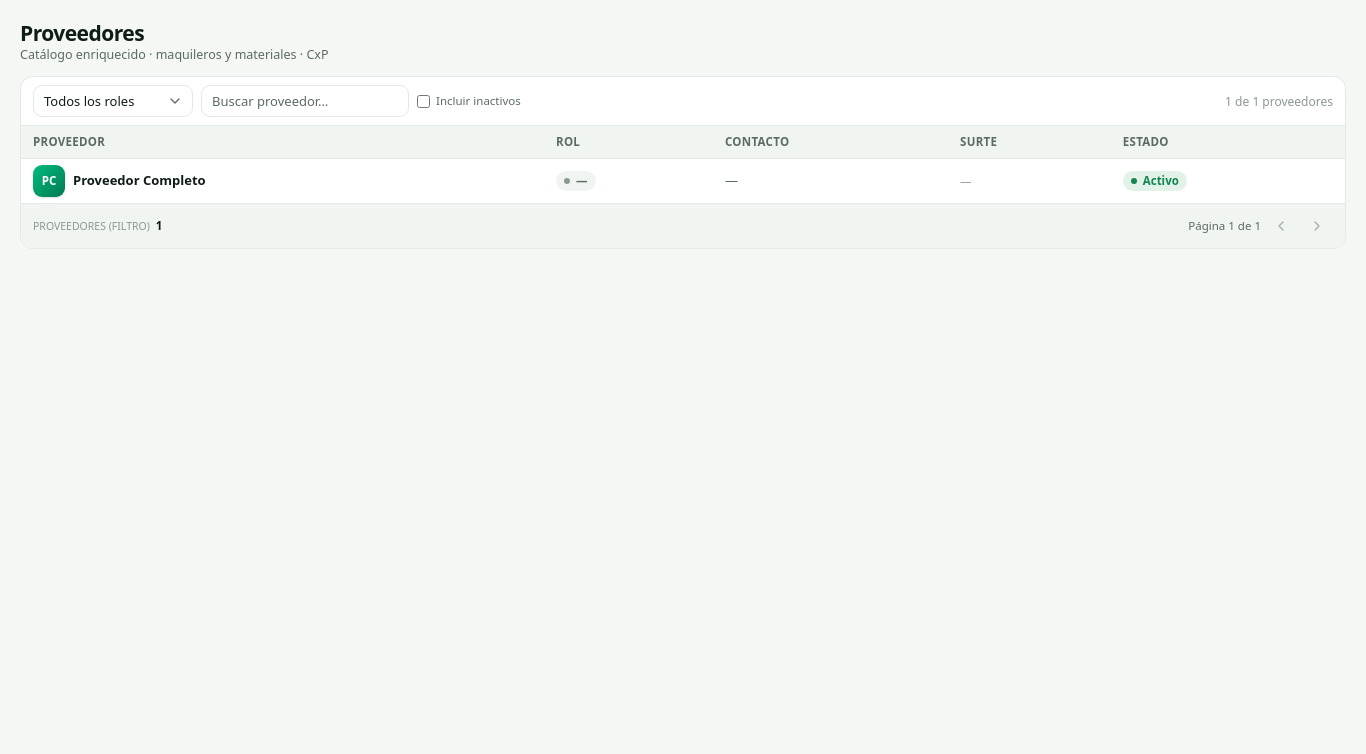
Test: <ProveedoresPagina> › muestra los datos enriquecidos (fiscal/pago/operativo) y el conteo de adjuntos
The image size is (1366, 754).
Click the row with test id "fila-proveedor".
click(49, 181)  # box [21, 158, 1345, 203]
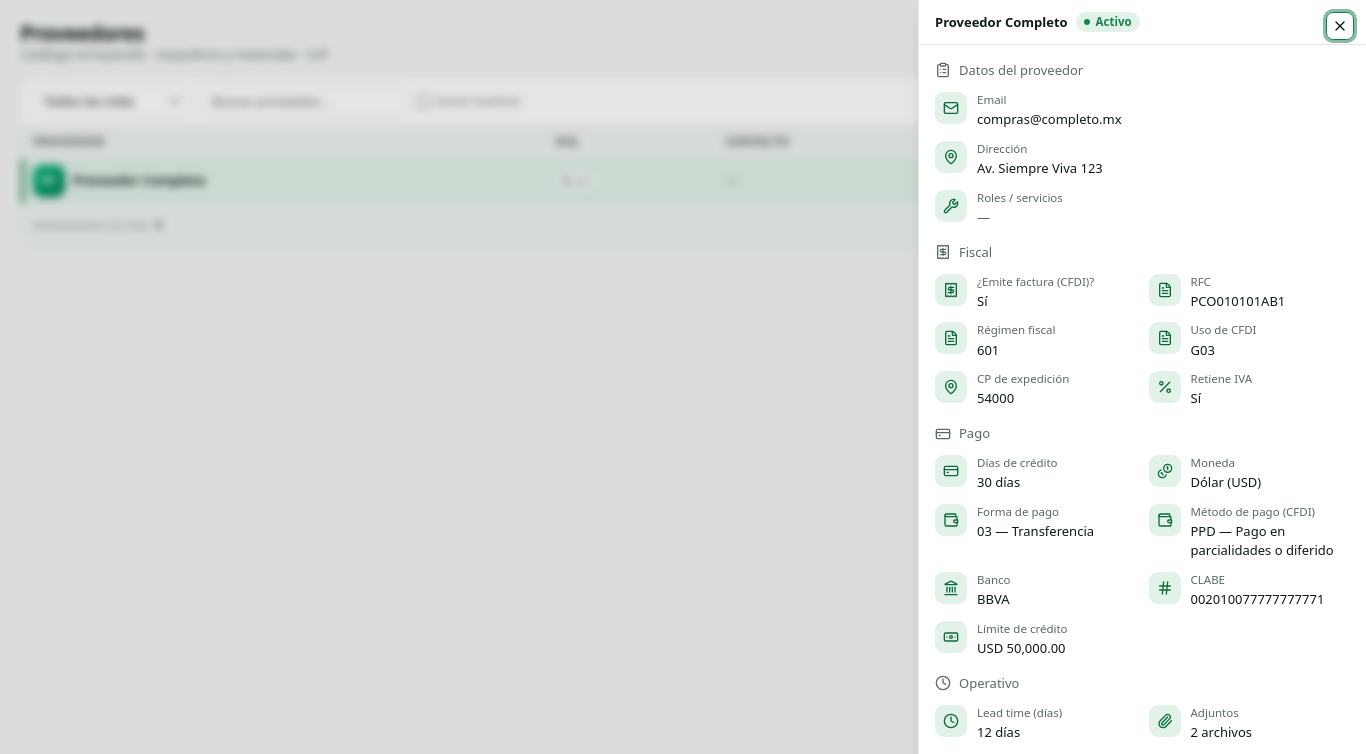
Result: the heading "Fiscal" is shown at [935, 243, 992, 261]
Result: the heading "Pago" is shown at [935, 424, 990, 442]
Result: the heading "Operativo" is shown at [935, 674, 1019, 692]
